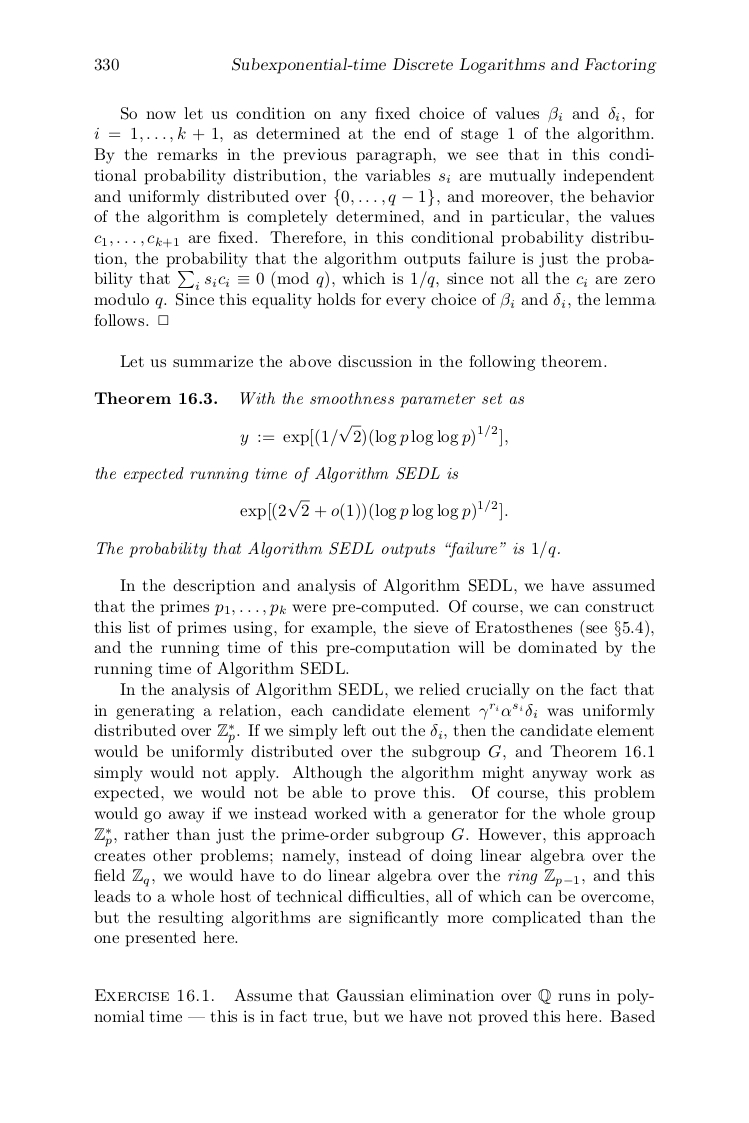formula: (240, 424, 507, 447), (240, 499, 507, 521)
